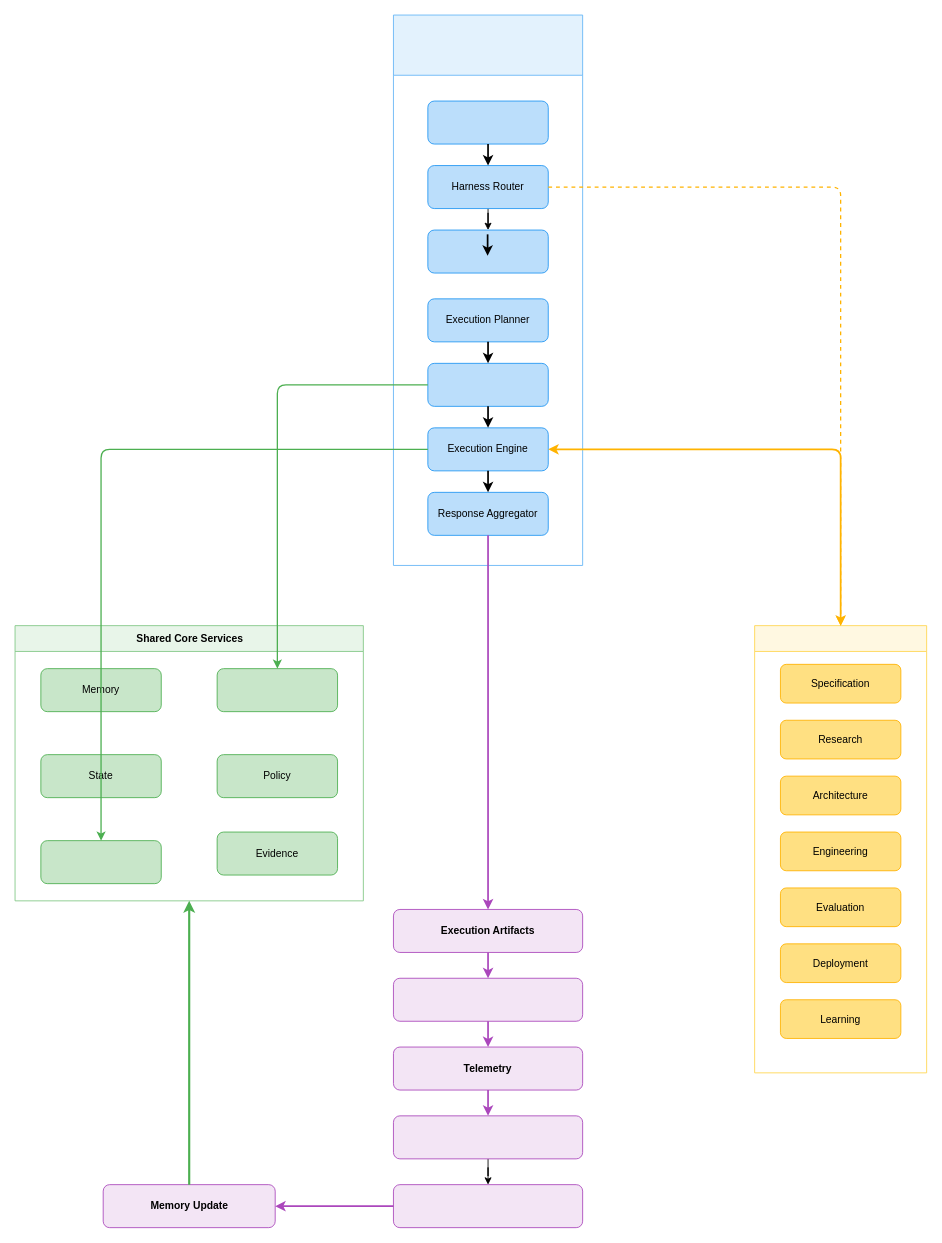
This 942x1243 diagram has some shape labels left out. Each missing label, with the box of its shape:
Context: (216, 668, 338, 712)
Context Manager: (427, 362, 548, 406)
Harness Registry: (754, 625, 927, 1073)
Harness Selector: (427, 229, 548, 273)
Intent Analyzer: (427, 100, 548, 144)
Knowledge Extraction: (393, 1115, 583, 1159)
Knowledge Graph: (40, 840, 161, 884)
Learning Engine: (393, 1184, 583, 1228)
Production Runtime: (393, 977, 583, 1021)
Symphony Orchestrator (Control Plane): (393, 14, 583, 565)
